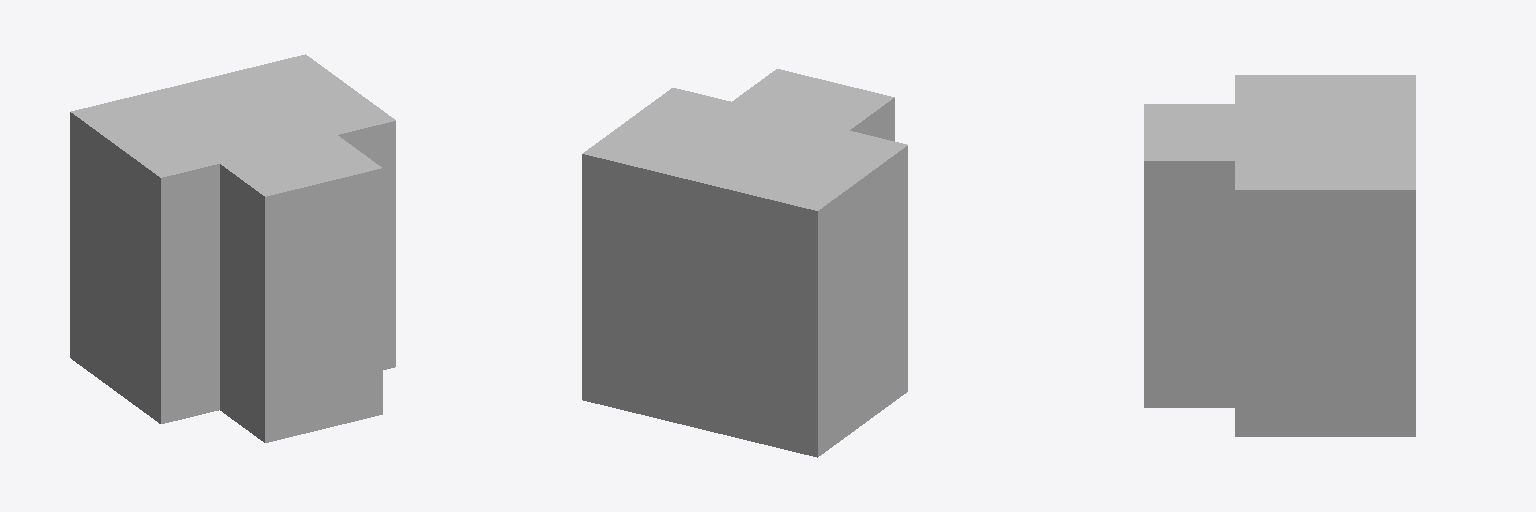
Rendered from building02.obj.
3 renders of one model, left to right at view 1: azimuth 30°, elevation 25°; view 2: azimuth 150°, elevation 25°; view 3: azimuth 270°, elevation 25°, orthographic.
Parts seen in each view (by area): view 1: Box001_Material_#25_0; view 2: Box001_Material_#25_0; view 3: Box001_Material_#25_0.
Boxes of the visible parts, x1=… form: Box001_Material_#25_0: x1=70, y1=54, x2=395, y2=442; Box001_Material_#25_0: x1=582, y1=69, x2=907, y2=457; Box001_Material_#25_0: x1=1144, y1=75, x2=1415, y2=436.
Bounding box in the file's own units: 1 × 1 × 1.